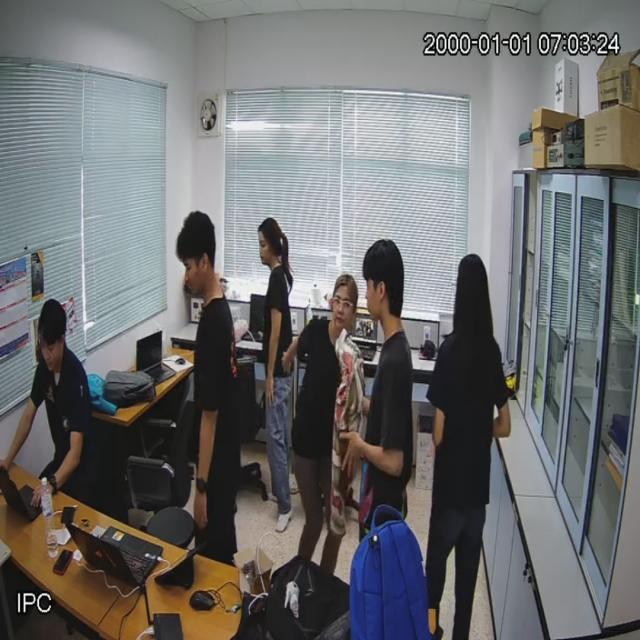normal: (429, 249, 513, 640), (170, 206, 240, 553), (17, 276, 91, 502), (360, 228, 409, 535), (255, 206, 295, 534)
